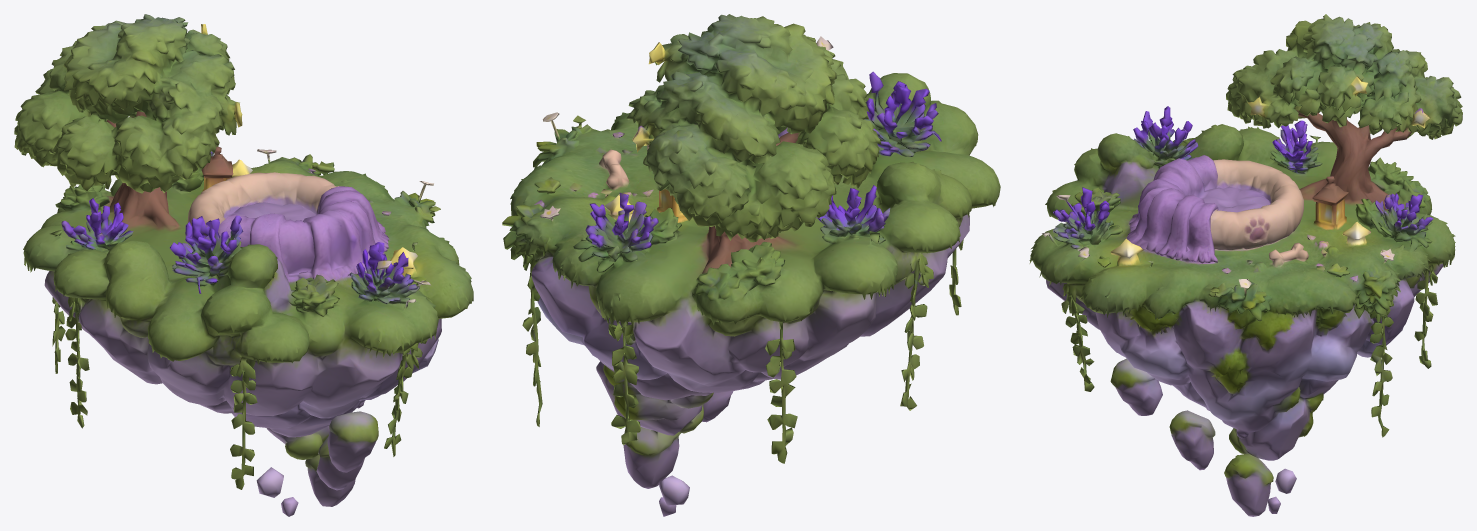
The model's file is island_hero.glb.
3 renders of one model, left to right at view 1: azimuth 30°, elevation 25°; view 2: azimuth 150°, elevation 25°; view 3: azimuth 270°, elevation 25°, orthographic. The views are drawn at different scales.
Parts seen in each view (by area): view 1: tripo_node_052d6293-7841-41c1-bbfc-c85582027dfb; view 2: tripo_node_052d6293-7841-41c1-bbfc-c85582027dfb; view 3: tripo_node_052d6293-7841-41c1-bbfc-c85582027dfb.
Part boxes in pixels (box(x1,y1,x2,y2)): tripo_node_052d6293-7841-41c1-bbfc-c85582027dfb: box(14, 14, 473, 516); tripo_node_052d6293-7841-41c1-bbfc-c85582027dfb: box(502, 14, 1000, 516); tripo_node_052d6293-7841-41c1-bbfc-c85582027dfb: box(1029, 14, 1462, 516).
Bounding box in the file's own units: 0.7978 × 1 × 0.888.
1 material, 1 textured.
